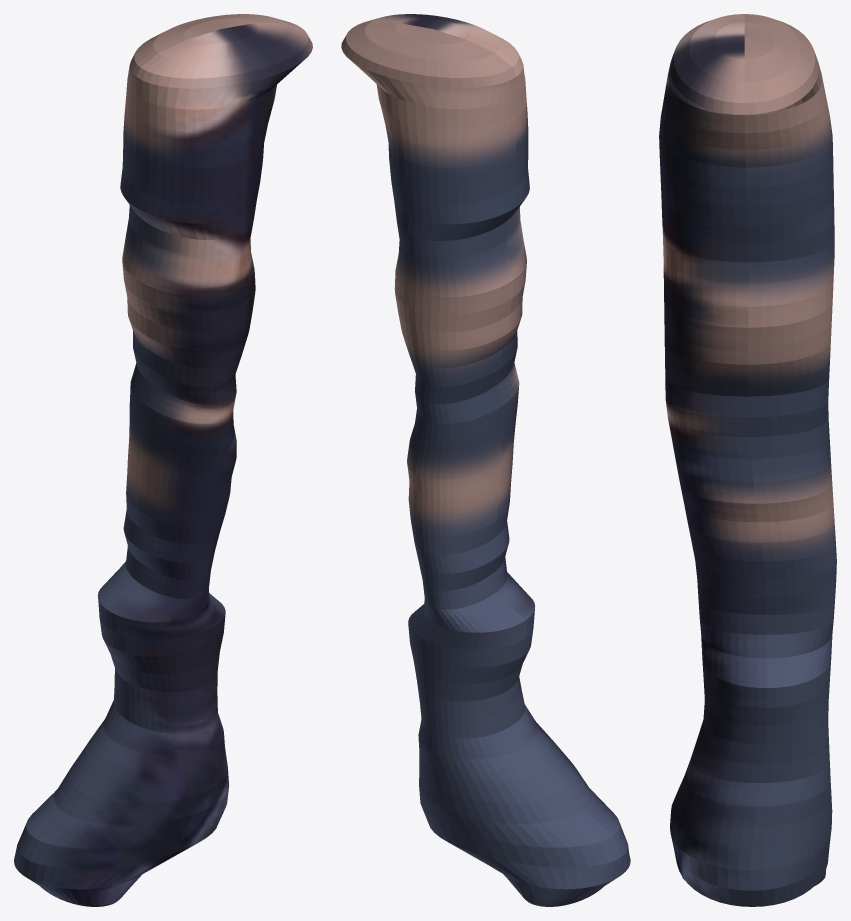
The model's file is subject_leg_r.obj.
3 renders of one model, left to right at view 1: azimuth 30°, elevation 25°; view 2: azimuth 150°, elevation 25°; view 3: azimuth 270°, elevation 25°, orthographic. The views are drawn at different scales.
Visible parts, largest first — view 1: subject_leg_r; view 2: subject_leg_r; view 3: subject_leg_r.
Part boxes in pixels (x1=…): subject_leg_r: x1=14, y1=14, x2=312, y2=906; subject_leg_r: x1=341, y1=14, x2=630, y2=906; subject_leg_r: x1=659, y1=14, x2=836, y2=906.
Size of the model in its own units: 0.3054 by 0.8663 by 0.1514.
Materials: 1 (1 with a texture image).
